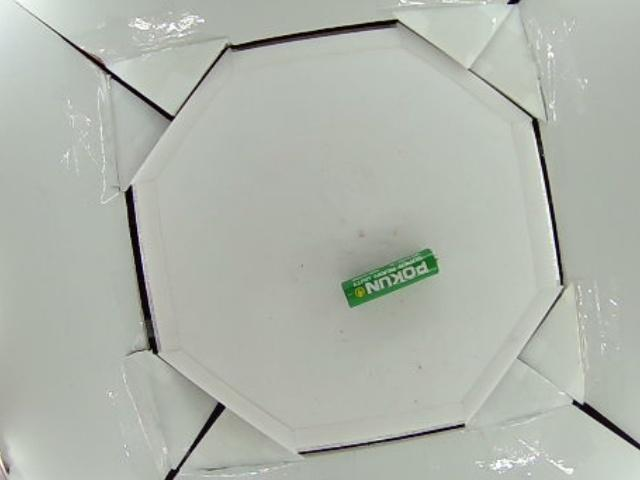Battery: (341, 249, 442, 304)
